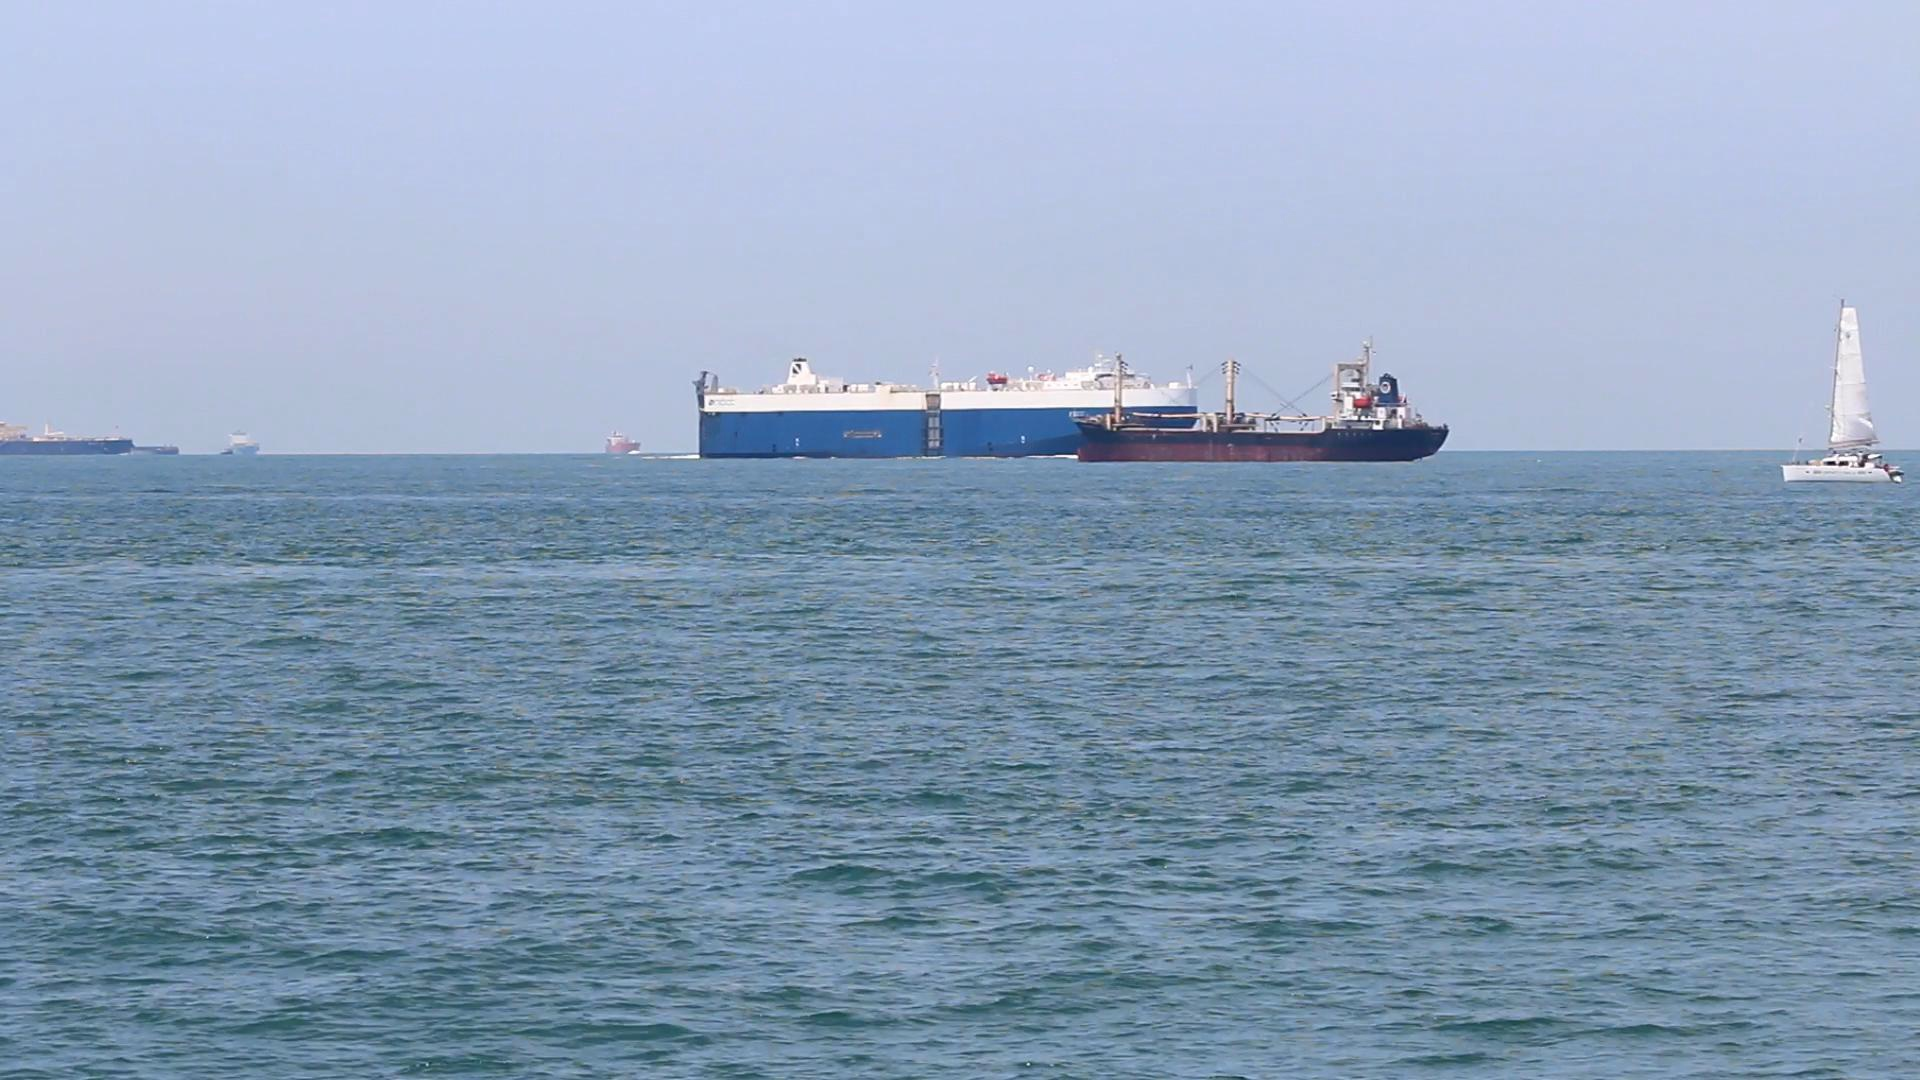Container Ship: (687, 347, 1209, 465), (1056, 334, 1460, 469), (0, 415, 148, 463), (210, 425, 265, 464), (601, 427, 649, 462)
